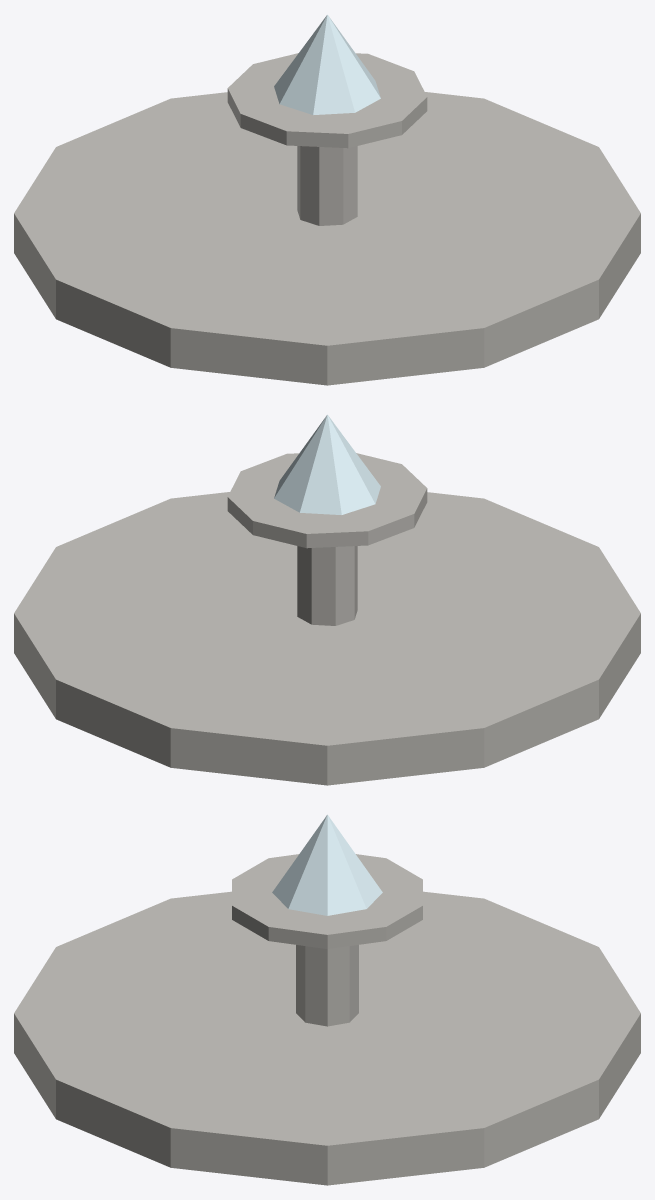
File: fountain.glb
The picture shows the model from 3 angles, top to bottom: view 1: azimuth 30°, elevation 25°; view 2: azimuth 150°, elevation 25°; view 3: azimuth 270°, elevation 25°; orthographic projection.
Visible parts, largest first — view 1: Fountain; view 2: Fountain; view 3: Fountain.
Part boxes in pixels (x1=…): Fountain: x1=14, y1=14, x2=640, y2=385; Fountain: x1=14, y1=414, x2=640, y2=785; Fountain: x1=14, y1=814, x2=640, y2=1185.
Bounding box in the file's own units: 10 × 4.2 × 10.
